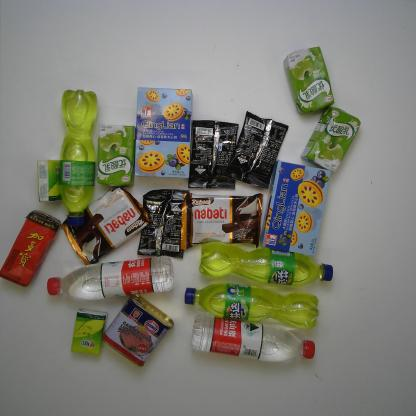Canned Food: (102, 293, 173, 366)
Dessert: (61, 186, 150, 266), (260, 160, 331, 256), (134, 86, 193, 180), (180, 192, 263, 250)
Drink: (183, 282, 319, 330), (191, 316, 315, 364), (199, 242, 333, 286), (46, 256, 174, 300), (60, 88, 99, 226), (0, 210, 61, 288)
Instant Drink: (224, 111, 289, 189), (138, 188, 190, 258), (188, 120, 239, 190)
Milk: (300, 104, 362, 172), (284, 46, 334, 115), (96, 124, 137, 187)
Tissue: (70, 308, 108, 356), (37, 159, 66, 203)
